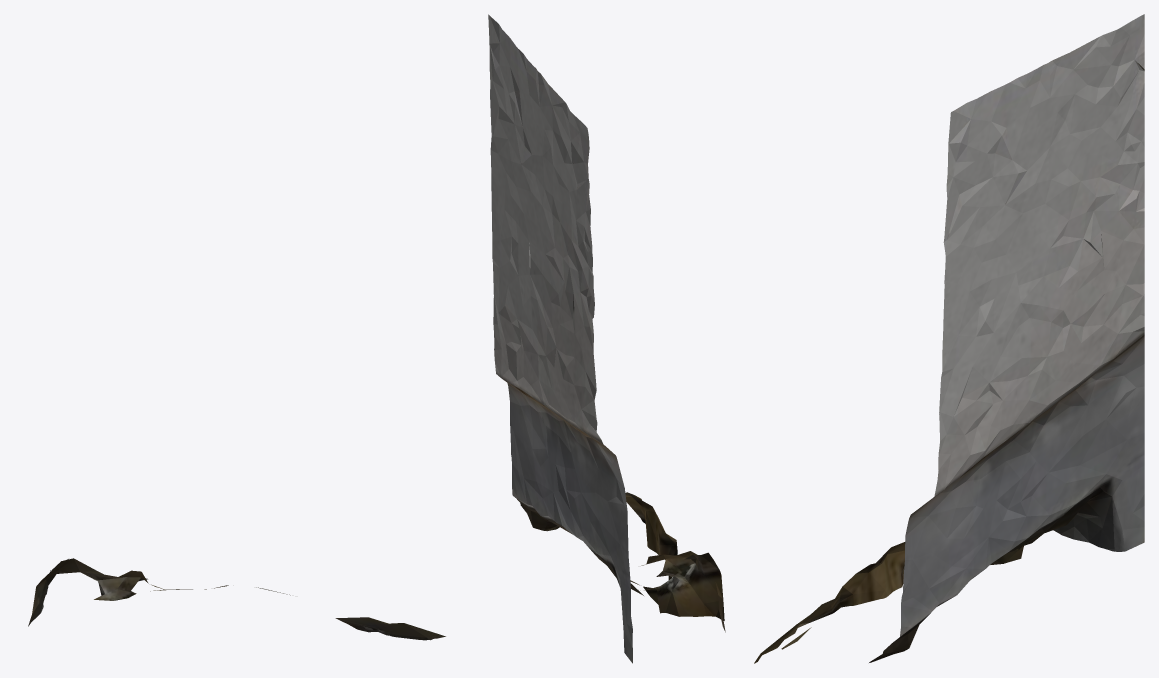
3 renders of one model, left to right at view 1: azimuth 30°, elevation 25°; view 2: azimuth 150°, elevation 25°; view 3: azimuth 270°, elevation 25°, orthographic. The views are drawn at different scales.
Bounding box in the file's own units: 0.4605 × 0.8374 × 0.537.
2 materials, 2 textured.
